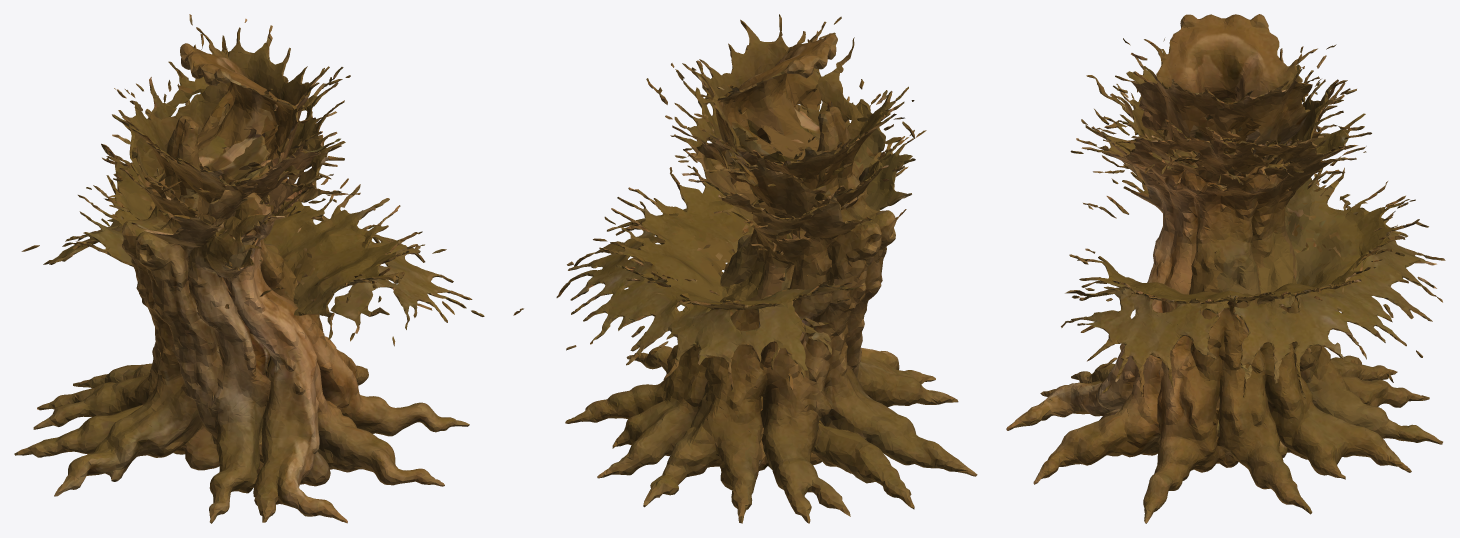
The model's file is prop-tree_dead.glb.
3 renders of one model, left to right at view 1: azimuth 30°, elevation 25°; view 2: azimuth 150°, elevation 25°; view 3: azimuth 270°, elevation 25°, orthographic.
Parts seen in each view (by area): view 1: geometry_0; view 2: geometry_0; view 3: geometry_0.
Part boxes in pixels (<box>): geometry_0: <box>14,14,484,523</box>; geometry_0: <box>513,14,977,523</box>; geometry_0: <box>1006,14,1445,523</box>.
Bounding box in the file's own units: 2 × 1.99 × 1.95.
1 material, 1 textured.
